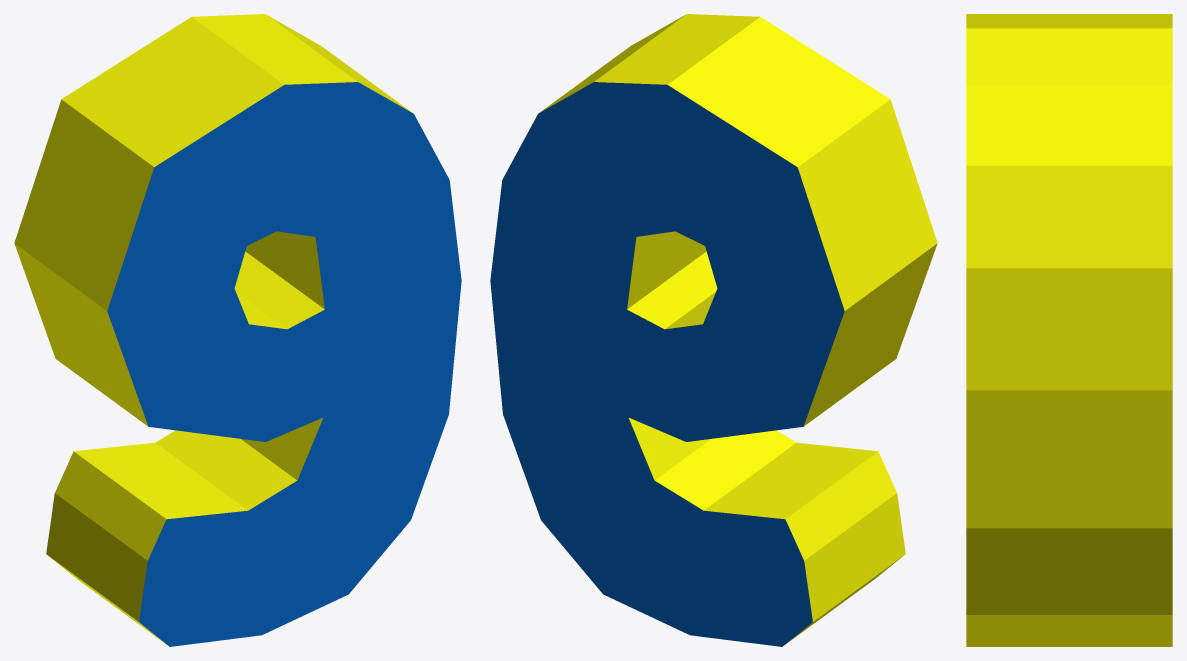
3 renders of one model, left to right at view 1: azimuth 30°, elevation 25°; view 2: azimuth 150°, elevation 25°; view 3: azimuth 270°, elevation 25°, orthographic. The views are drawn at different scales.
Parts seen in each view (by area): view 1: text: ABCDEFGHIJKLMNOPQRSTUVWXYZ01234567891_sep36_blue, text: ABCDEFGHIJKLMNOPQRSTUVWXYZ01234567891_sep36_yellow; view 2: text: ABCDEFGHIJKLMNOPQRSTUVWXYZ01234567891_sep36_blue, text: ABCDEFGHIJKLMNOPQRSTUVWXYZ01234567891_sep36_yellow; view 3: text: ABCDEFGHIJKLMNOPQRSTUVWXYZ01234567891_sep36_yellow.
Boxes of the visible parts, x1,y1,x2,y2 form: text: ABCDEFGHIJKLMNOPQRSTUVWXYZ01234567891_sep36_blue: [107, 82, 461, 646]; text: ABCDEFGHIJKLMNOPQRSTUVWXYZ01234567891_sep36_yellow: [14, 14, 411, 645]; text: ABCDEFGHIJKLMNOPQRSTUVWXYZ01234567891_sep36_blue: [490, 82, 844, 646]; text: ABCDEFGHIJKLMNOPQRSTUVWXYZ01234567891_sep36_yellow: [540, 14, 937, 645]; text: ABCDEFGHIJKLMNOPQRSTUVWXYZ01234567891_sep36_yellow: [966, 14, 1172, 646].
Bounding box in the file's own units: 55.06 × 80.9 × 25.
